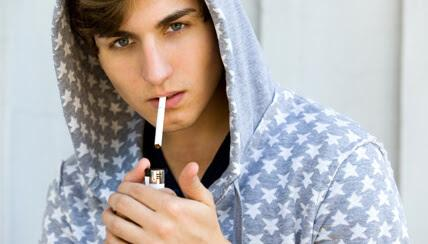smoke: (154, 96, 166, 149)
